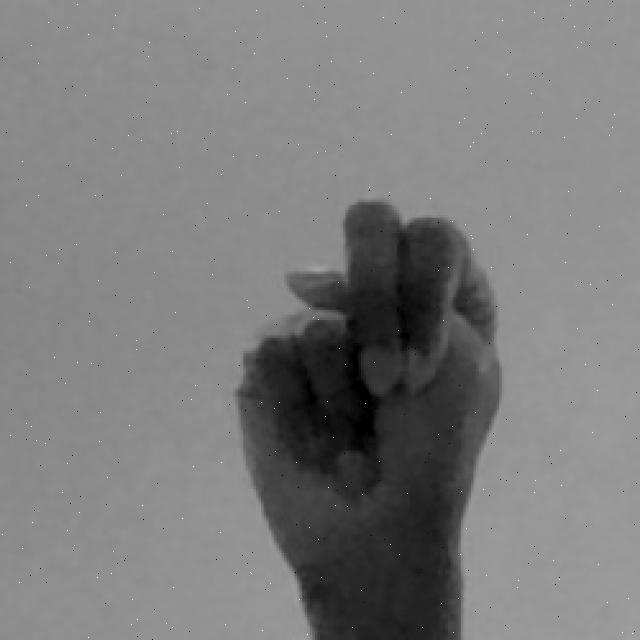N: (228, 189, 508, 640)
